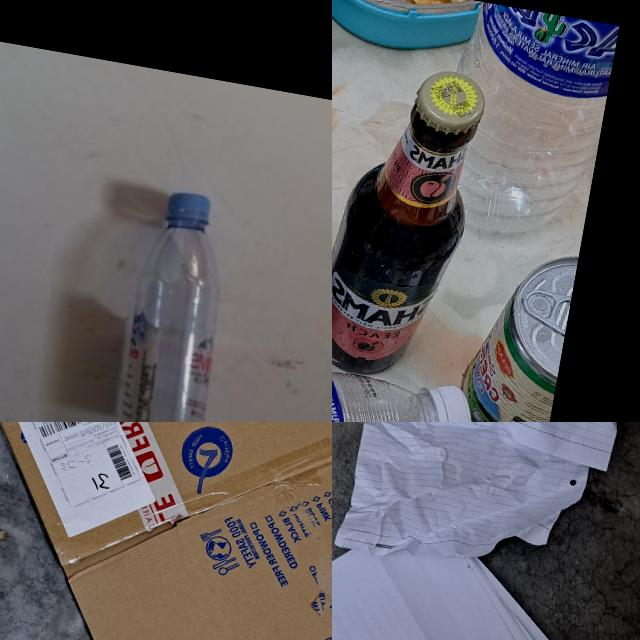aba de lata: (517, 290, 571, 336)
garrafa de vidro: (332, 54, 491, 387)
garrafa plástica: (430, 0, 619, 248), (96, 209, 239, 422)
lata: (451, 243, 577, 422)
papel: (332, 422, 640, 599), (332, 495, 640, 640)
papelão: (0, 422, 332, 640)
tampa plástica: (410, 373, 481, 422), (163, 188, 213, 231)
